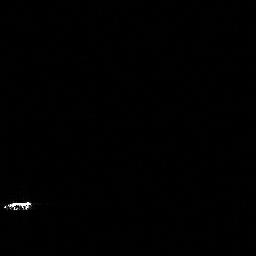ship: (1, 199, 34, 213)
